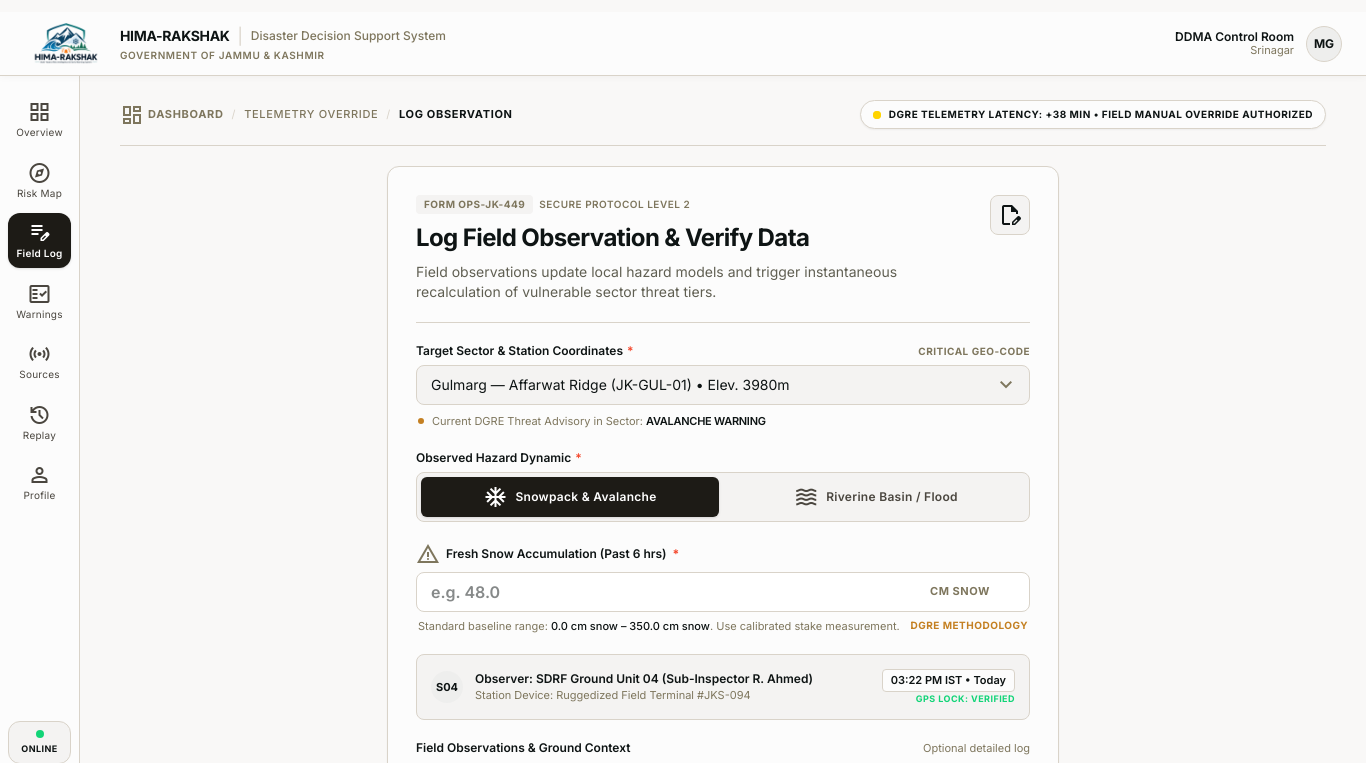
it: FieldObservationPage › switches metric label, unit, and range when toggling between avalanche and flood
This screenshot has width=1366, height=763.
Expected: the field labelled "Fresh Snow Accumulation (Past 6 hrs) *" is shown, [416,572,1030,612]
Expected: the text "cm snow" is shown, [930,583,990,600]
What coordinates should you click on to do the following:
click the radio button labelled "Riverine Basin / Flood"
I would click on:
 (876, 496)
Its box is [794,482,958,510].
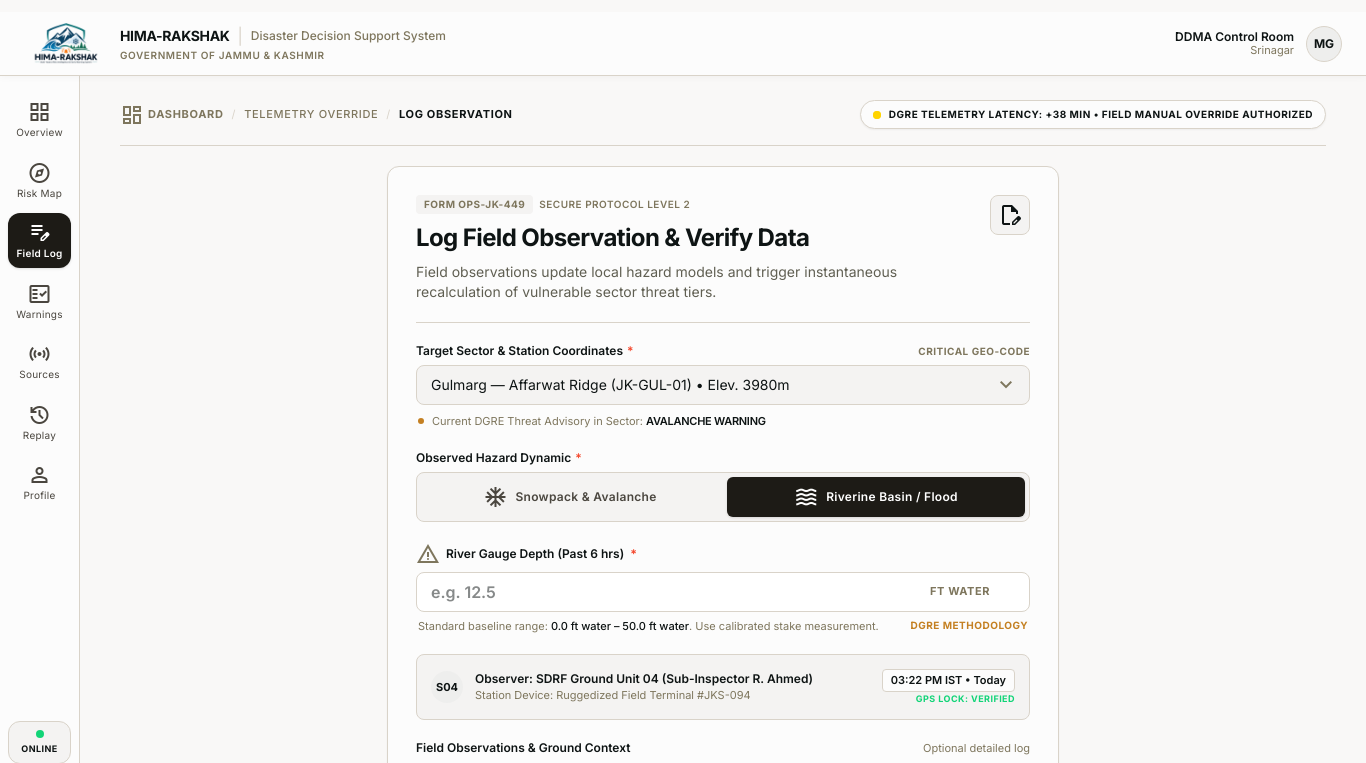
Expected: the field labelled "River Gauge Depth (Past 6 hrs) *" is shown, [416,572,1030,612]
Expected: the text "ft water" is shown, [930,583,990,600]
Expected: the text "0.0 ft water – 50.0 ft water" is shown, [551,618,689,632]
